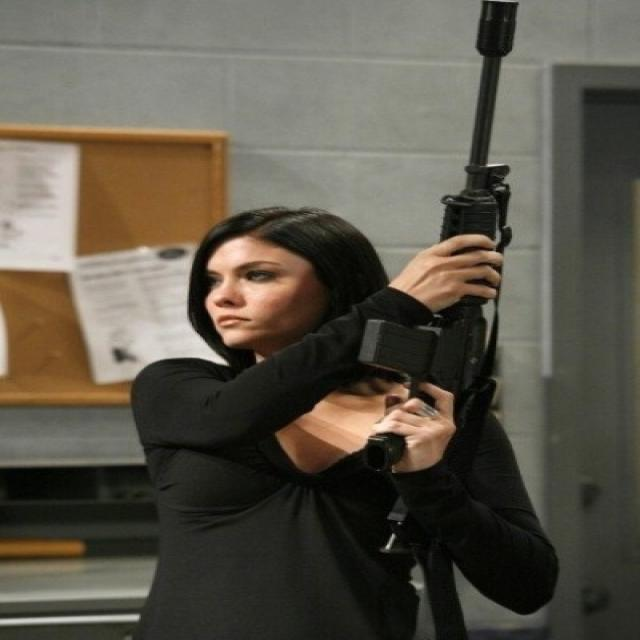rifle: (341, 2, 528, 578)
